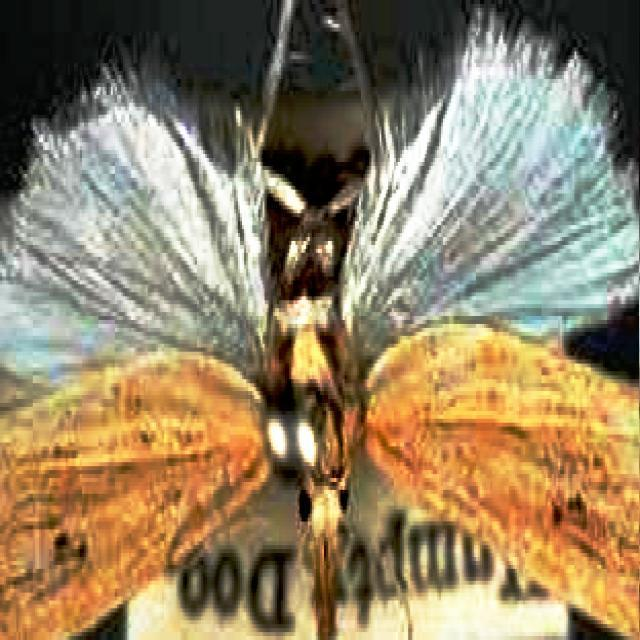stem-borer: (0, 0, 639, 640)
